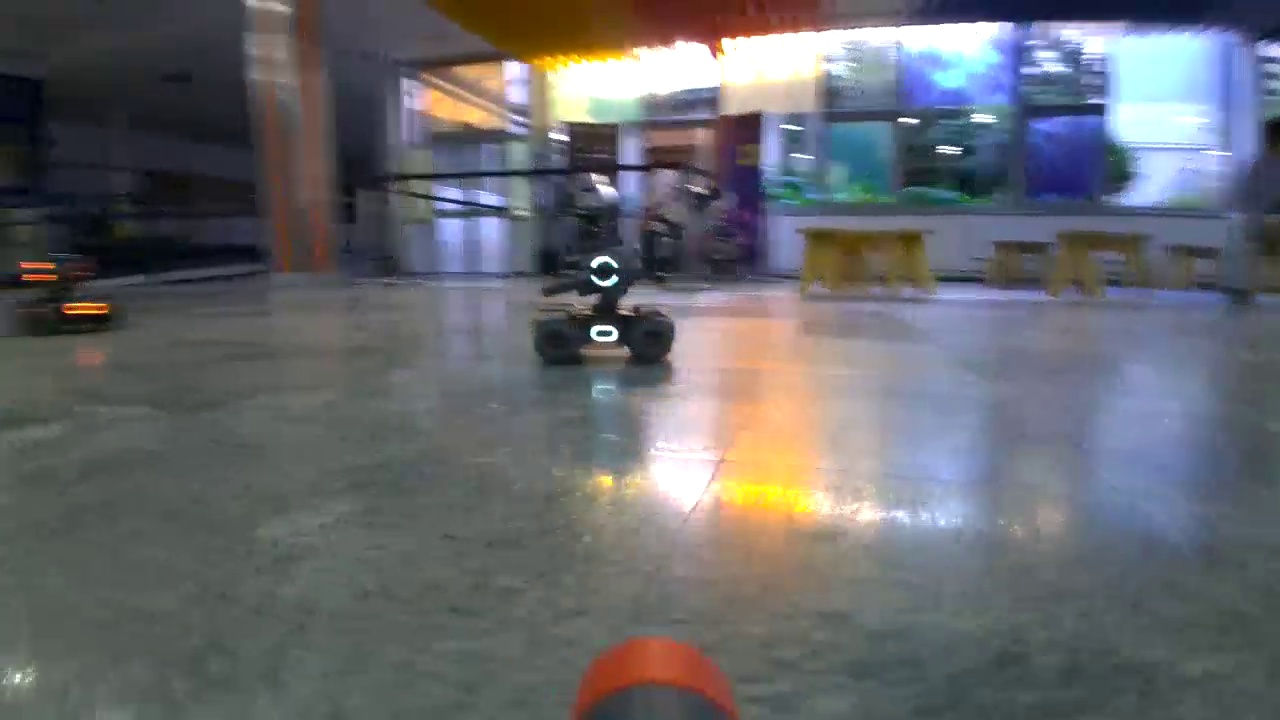robot: (532, 245, 676, 362), (12, 254, 115, 325)
